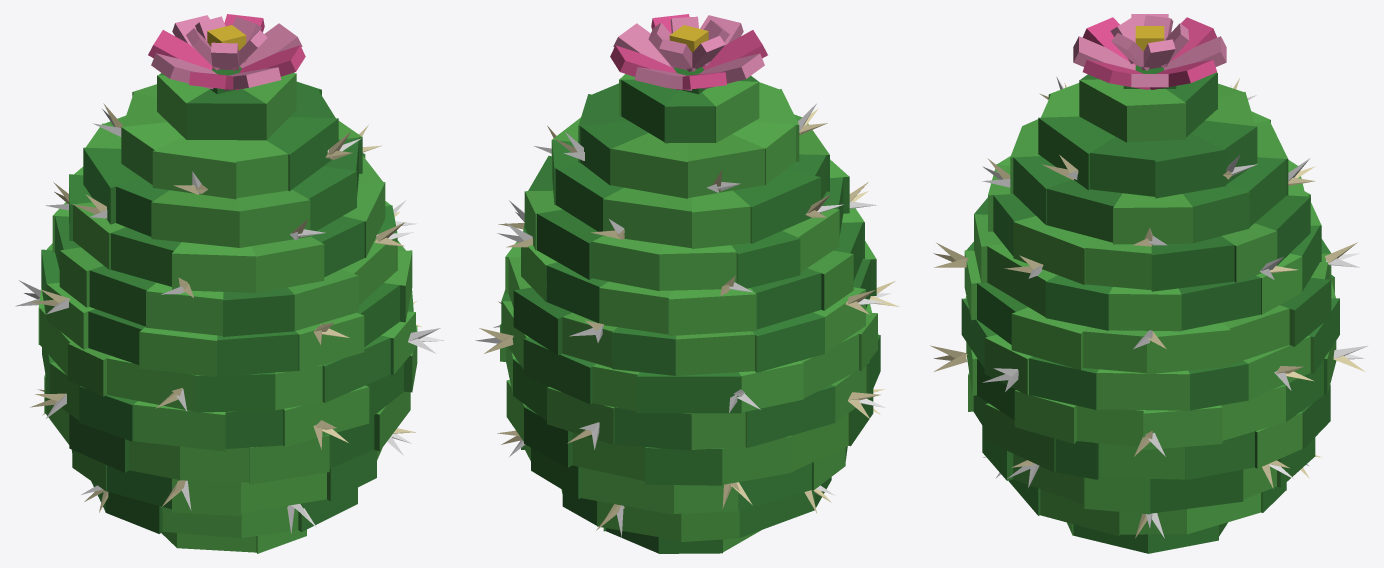
Rendered from cactus_egg.glb.
3 views of the same model, side by side, from view 1: azimuth 30°, elevation 25°; view 2: azimuth 150°, elevation 25°; view 3: azimuth 270°, elevation 25° (orthographic).
Visible parts, largest first — view 1: cactus_egg; view 2: cactus_egg; view 3: cactus_egg.
Part boxes in pixels (<box>): cactus_egg: <box>15,14,444,553</box>; cactus_egg: <box>475,14,899,553</box>; cactus_egg: <box>930,14,1368,553</box>.
Bounding box in the file's own units: 1.01 × 1.22 × 1.
